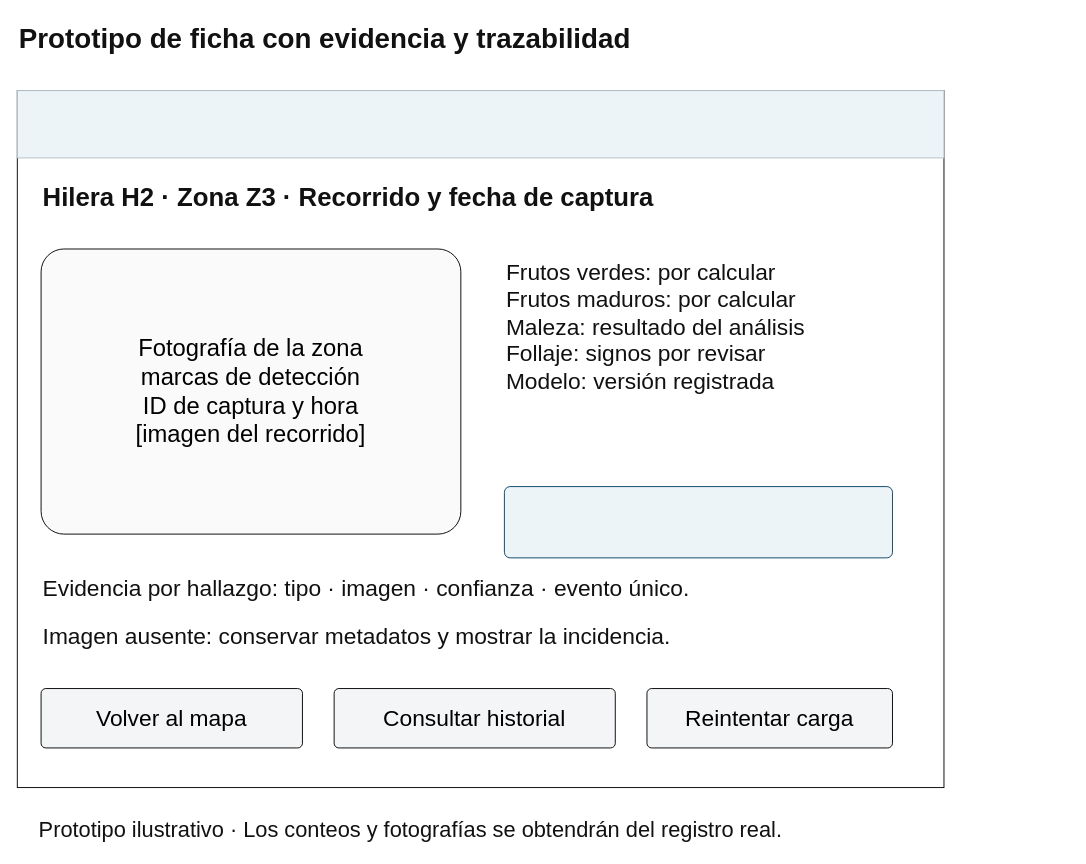
Some shapes in this 1086 by 864 pixel diagram are drawn without their labels. The shapes that lost their labels are listed below. From the top down, each one's centre as x and y in pixels, then its label:
At (x=480, y=124): "SABUESO | Pampa Concordia".
At (x=697, y=522): "Estado: análisis pendiente".
